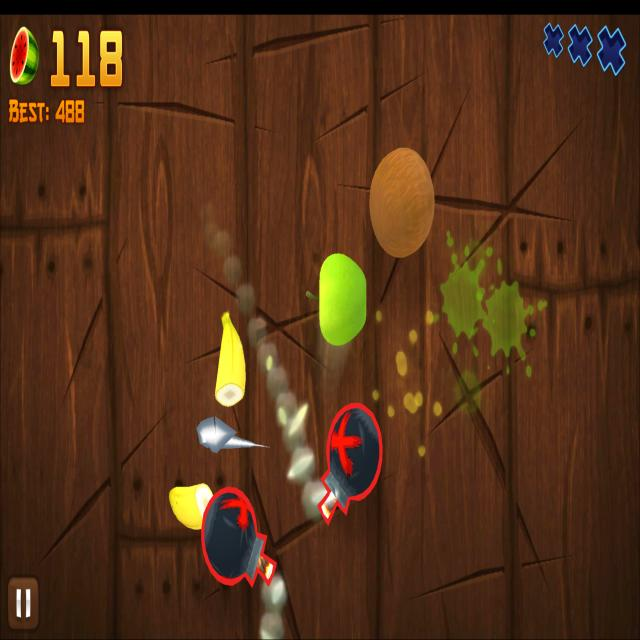bomb: (318, 401, 384, 526), (200, 485, 278, 589)
fruit: (369, 146, 435, 258), (318, 254, 368, 347)
